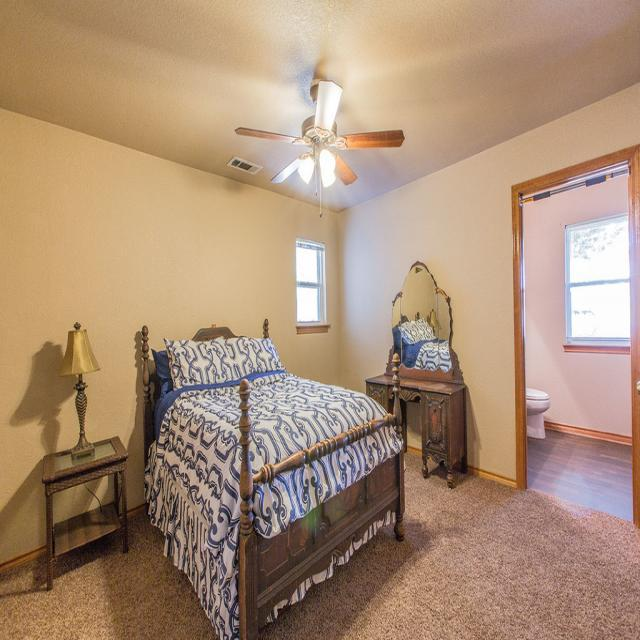bulb_on: (294, 153, 320, 186), (318, 147, 336, 179)
fan_off: (234, 79, 406, 192)
